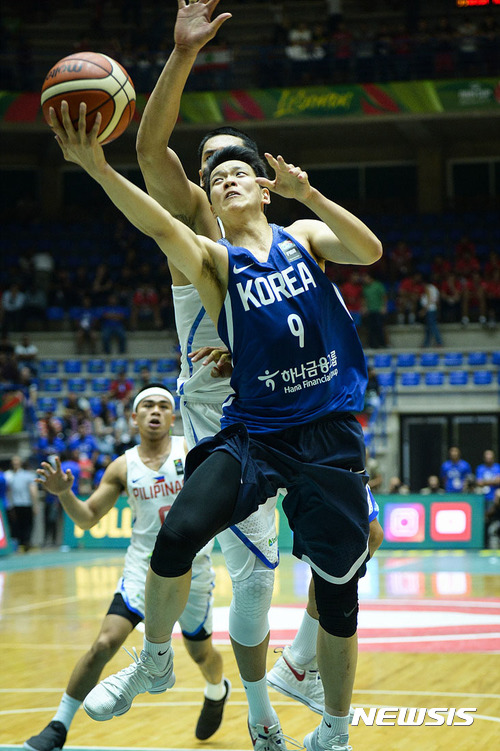defense: (145, 5, 292, 751)
shoot: (20, 38, 386, 724)
